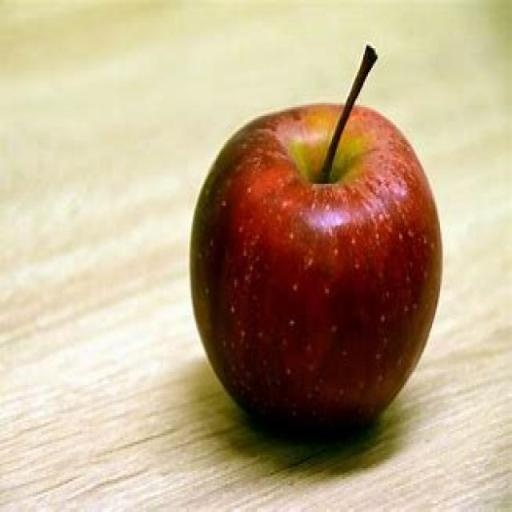fruit: (191, 94, 441, 429)
